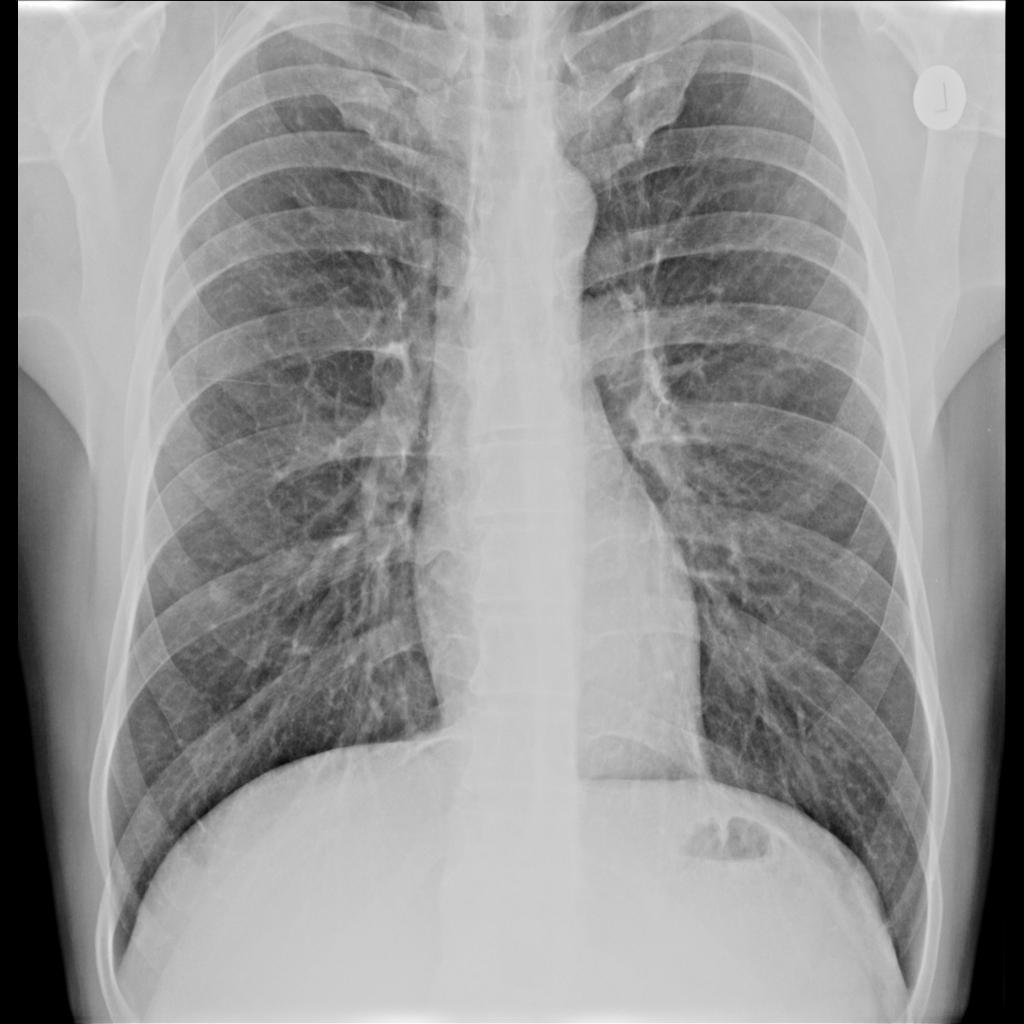Nodule: (204, 569, 239, 610)
